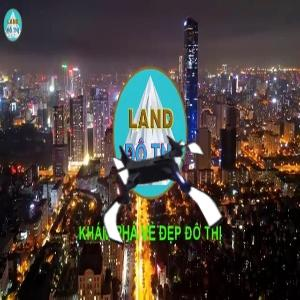drone: (90, 129, 221, 260)
